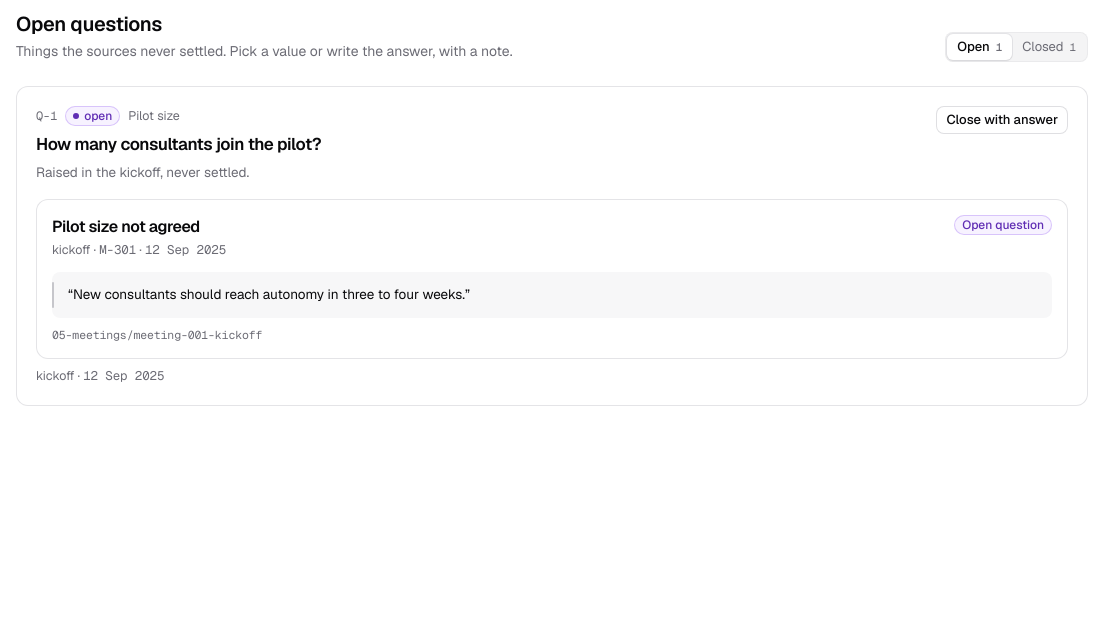
Test: OpenQuestions › shows a closed question with when it was closed and the fact that answers it
Step 1. Click the tab named "Closed1" → (1049, 47), box [1012,34,1086,60]
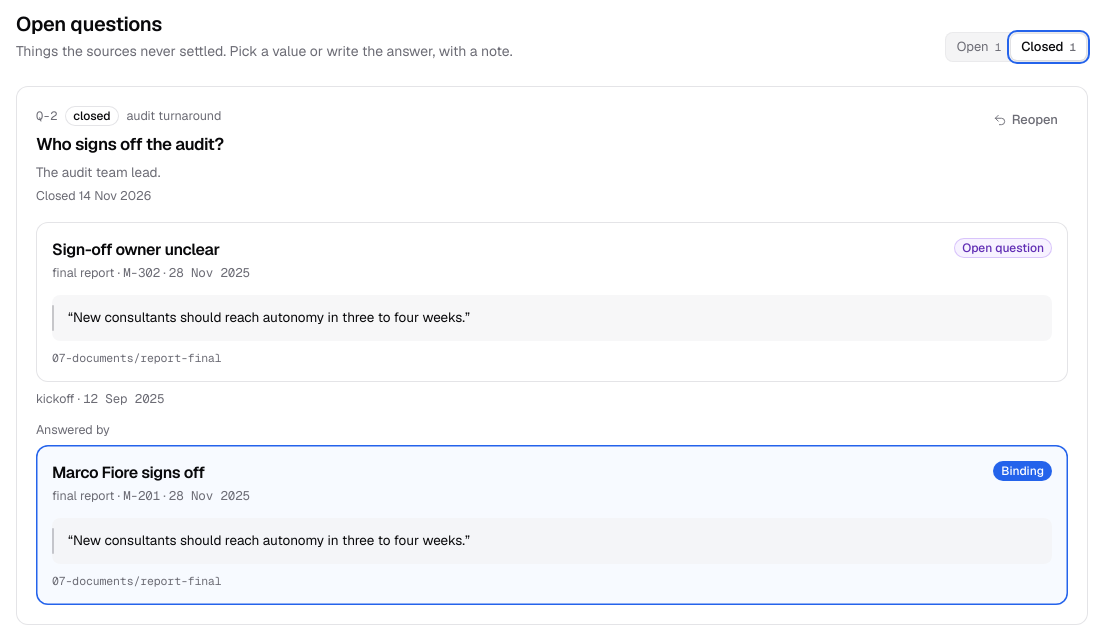
Result: the text "Closed 14 Nov 2026" is shown at [36,187,151,204]
Result: the text "The audit team lead." is shown at [36,162,160,180]
Result: the text "Answered by" is shown at [36,420,110,438]
